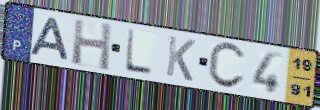4: (250, 49, 283, 96)
A: (28, 16, 72, 63)
C: (206, 41, 248, 91)
H: (70, 17, 114, 73)
K: (164, 34, 198, 84)
L: (123, 27, 155, 77)
